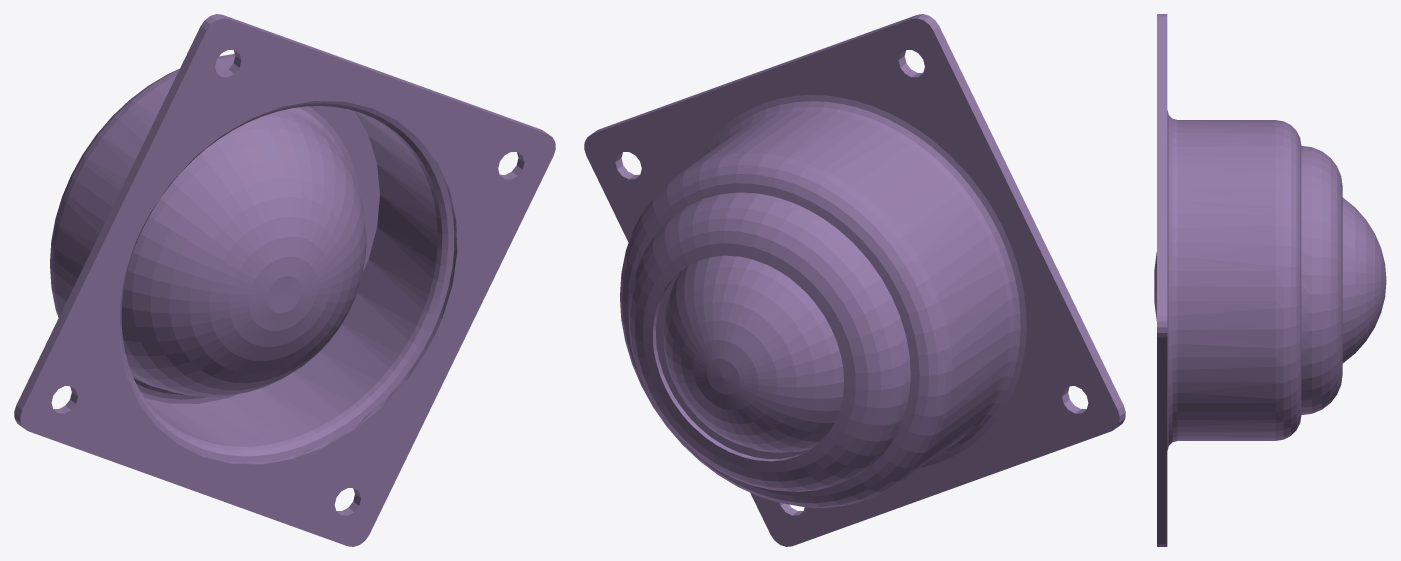
Rendered from caster_back_left_link.glb.
3 views of the same model, side by side, from view 1: azimuth 30°, elevation 25°; view 2: azimuth 150°, elevation 25°; view 3: azimuth 270°, elevation 25° (orthographic). The views are drawn at different scales.
Size of the model in its own units: 0.1016 by 0.1016 by 0.045.
